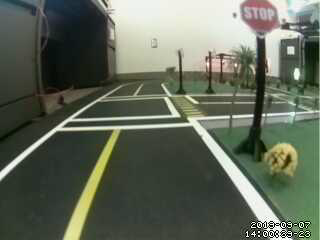Stop_Sign: (237, 2, 287, 36)
